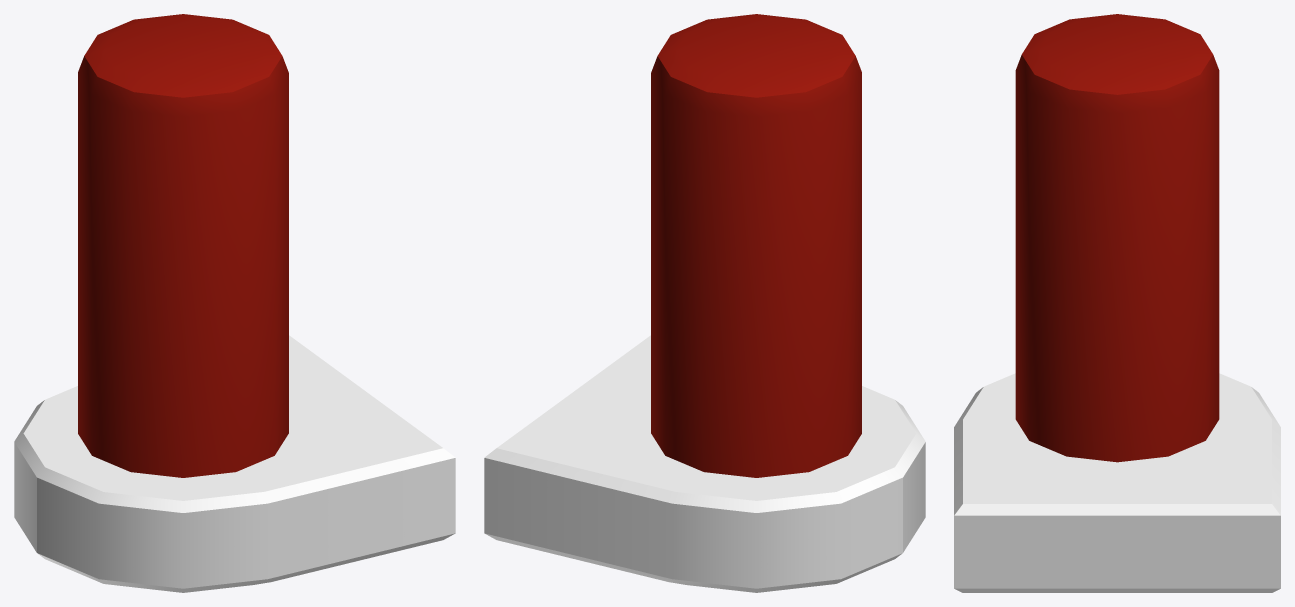
The model's file is SM_WallLamp_02.fbx.
3 renders of one model, left to right at view 1: azimuth 30°, elevation 25°; view 2: azimuth 150°, elevation 25°; view 3: azimuth 270°, elevation 25°, orthographic. The views are drawn at different scales.
Parts seen in each view (by area): view 1: SM_WallLamp_02; view 2: SM_WallLamp_02; view 3: SM_WallLamp_02.
Boxes of the visible parts, <box> form: SM_WallLamp_02: <box>14,14,455,592</box>; SM_WallLamp_02: <box>484,14,925,592</box>; SM_WallLamp_02: <box>954,14,1280,592</box>.
Bounding box in the file's own units: 17.97 × 24.41 × 15.75.
